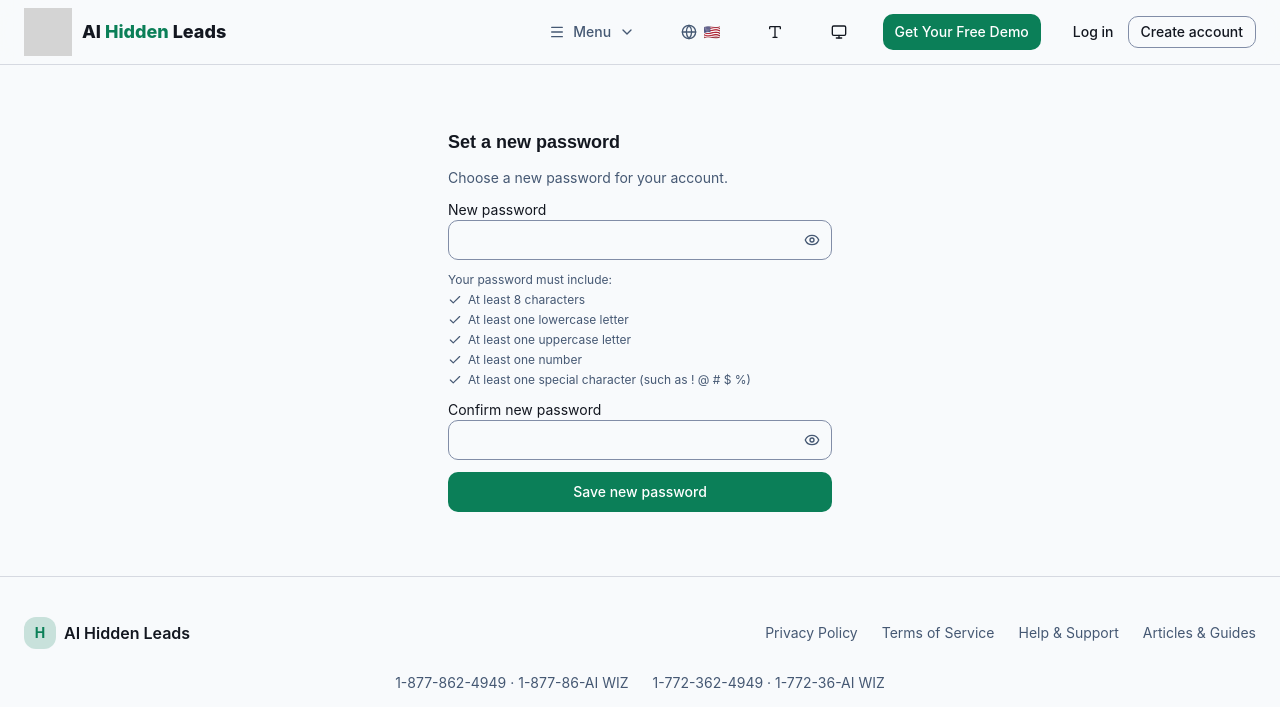
Test: /update-password › blocks a password that misses the policy (no special character)
In the password field labelled "New password": (640, 240) [448,220,832,260], type "longenough1"
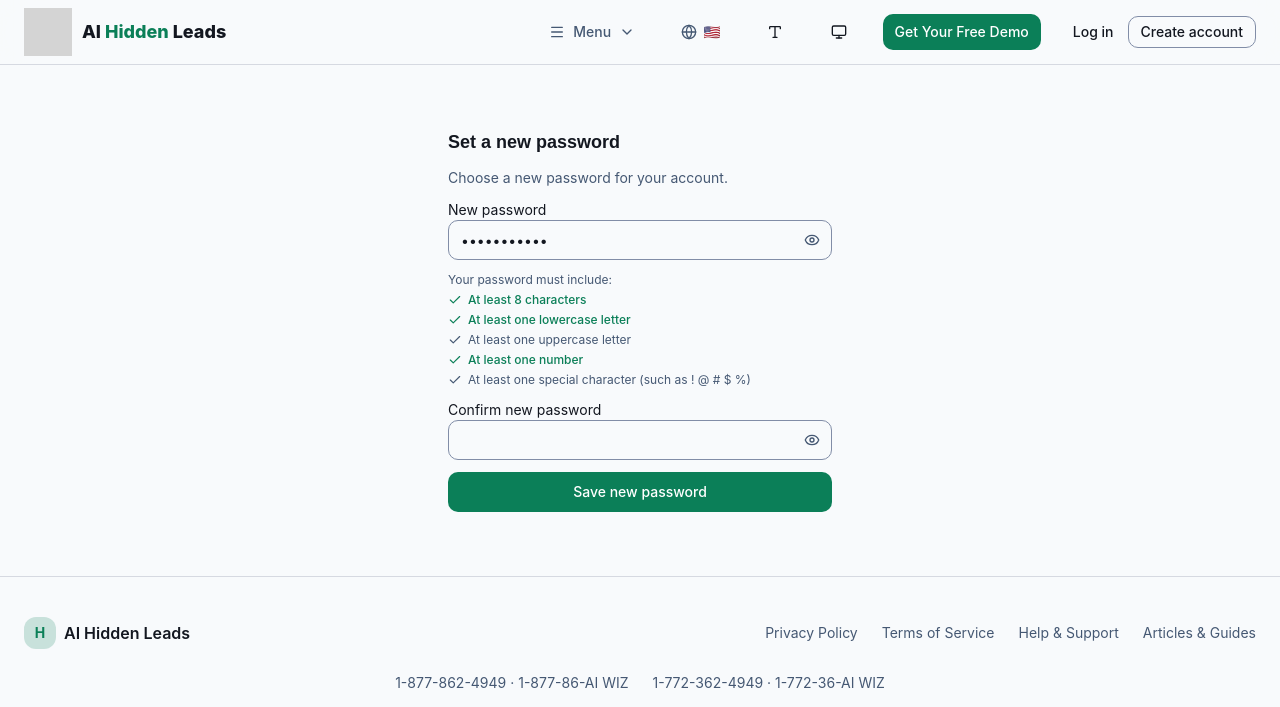
In the password field labelled "Confirm new password": (640, 440) [448,420,832,460], type "longenough1"
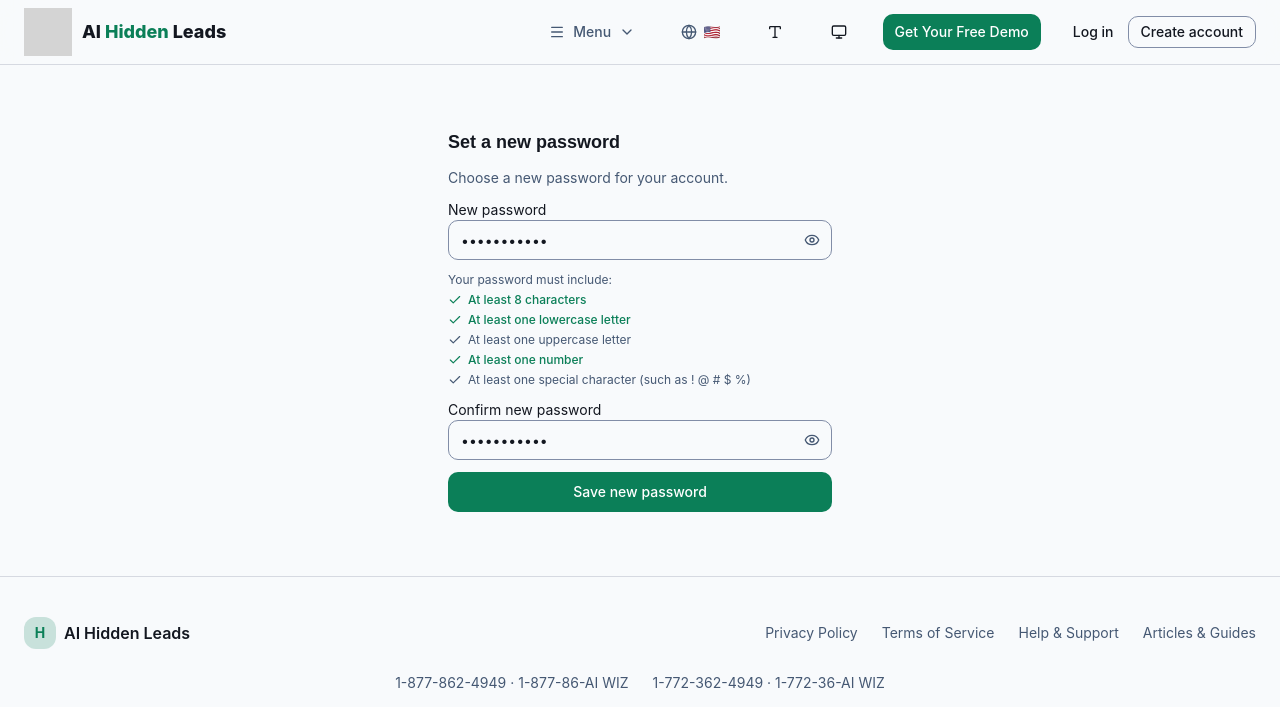
Submit the form named "save new password", box [448,200,832,512]
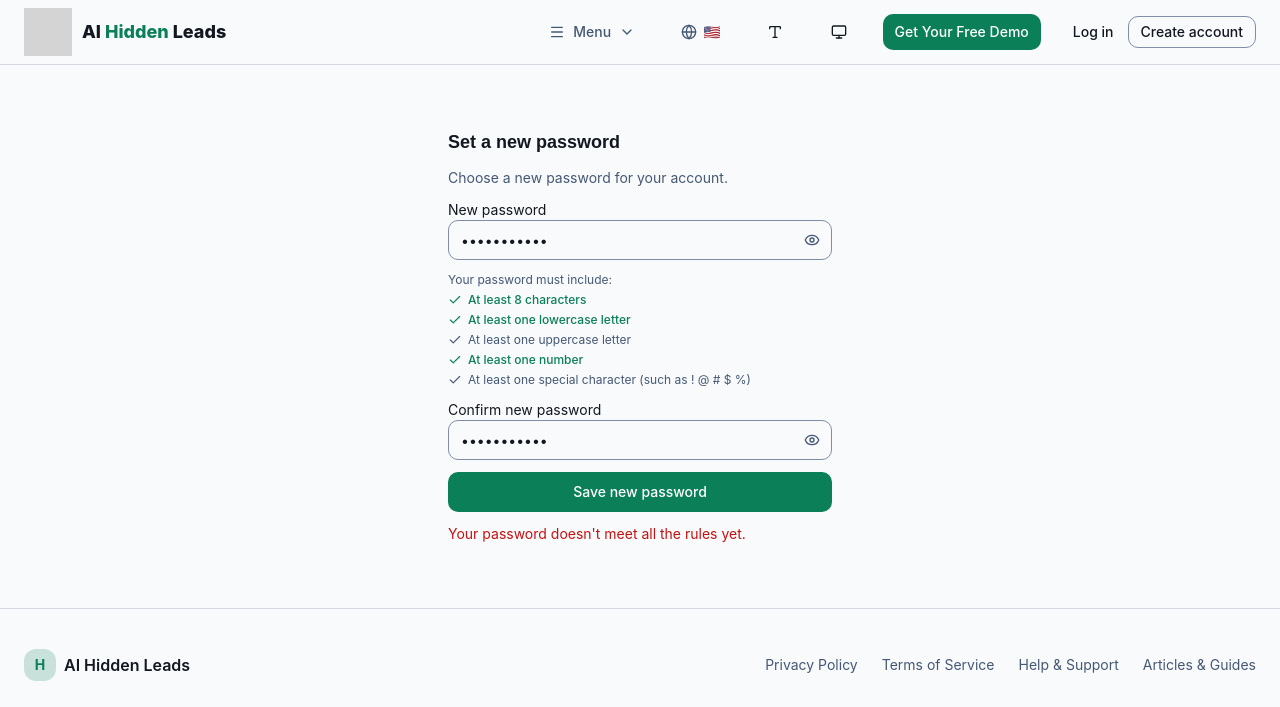
Expected: the message shows "meet all the rules", [448,525,746,542]
